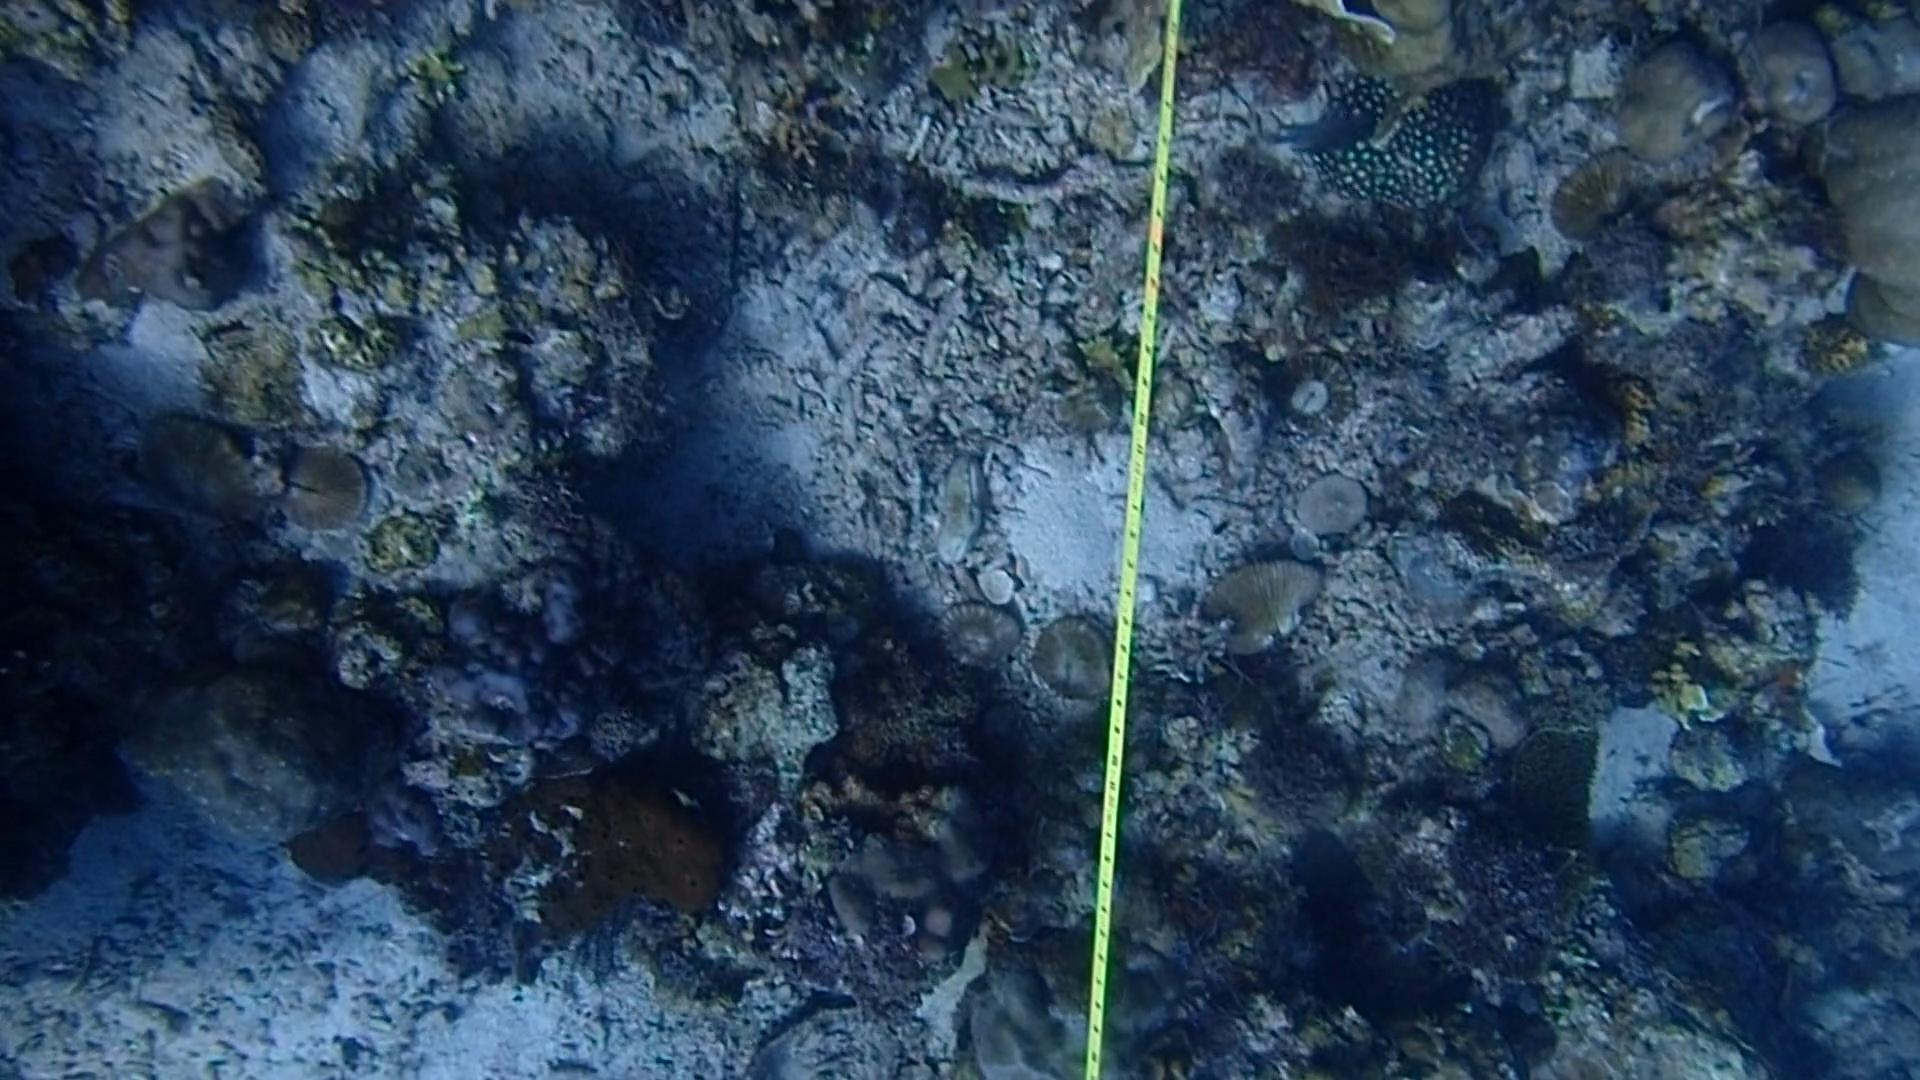Light Fish: (1270, 94, 1387, 170)
